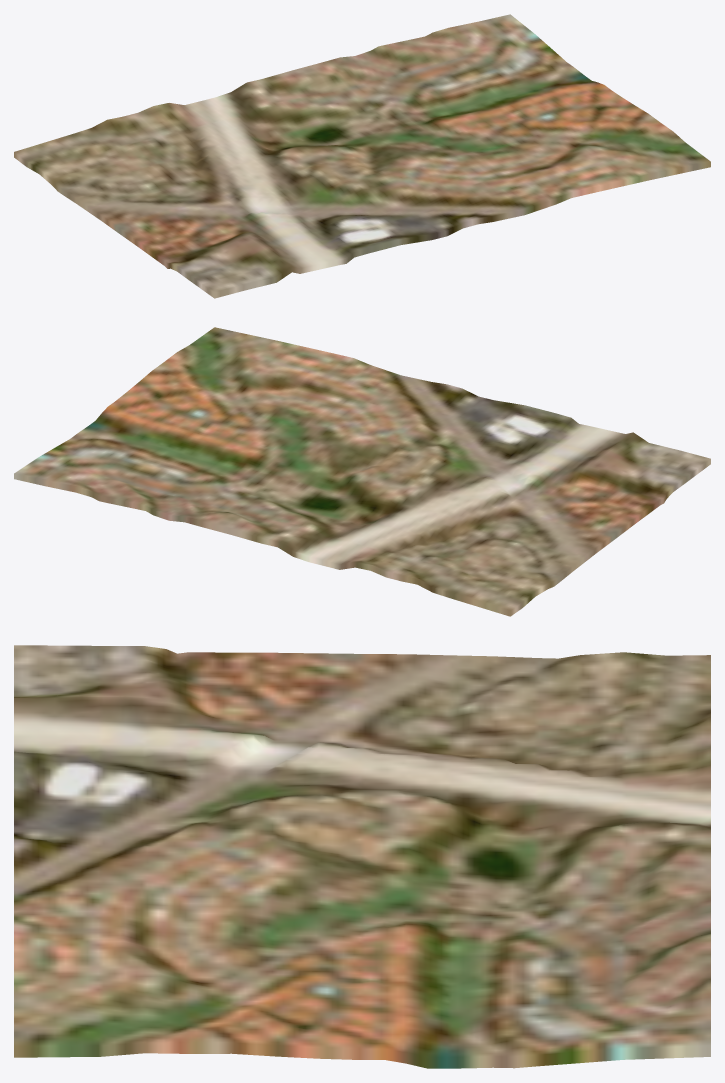
The model's file is terrain_r6_c7_lod2.glb.
3 renders of one model, top to bottom at view 1: azimuth 30°, elevation 25°; view 2: azimuth 150°, elevation 25°; view 3: azimuth 270°, elevation 25°, orthographic. The views are drawn at different scales.
Parts seen in each view (by area): view 1: terrain_r6_c7_lod2; view 2: terrain_r6_c7_lod2; view 3: terrain_r6_c7_lod2.
Boxes of the visible parts, x1,y1,x2,y2 form: terrain_r6_c7_lod2: (14,14,710,298); terrain_r6_c7_lod2: (14,327,710,616); terrain_r6_c7_lod2: (14,645,710,1068).
Bounding box in the file's own units: 1125 × 57.68 × 787.
Materials: 1 (1 with a texture image).
